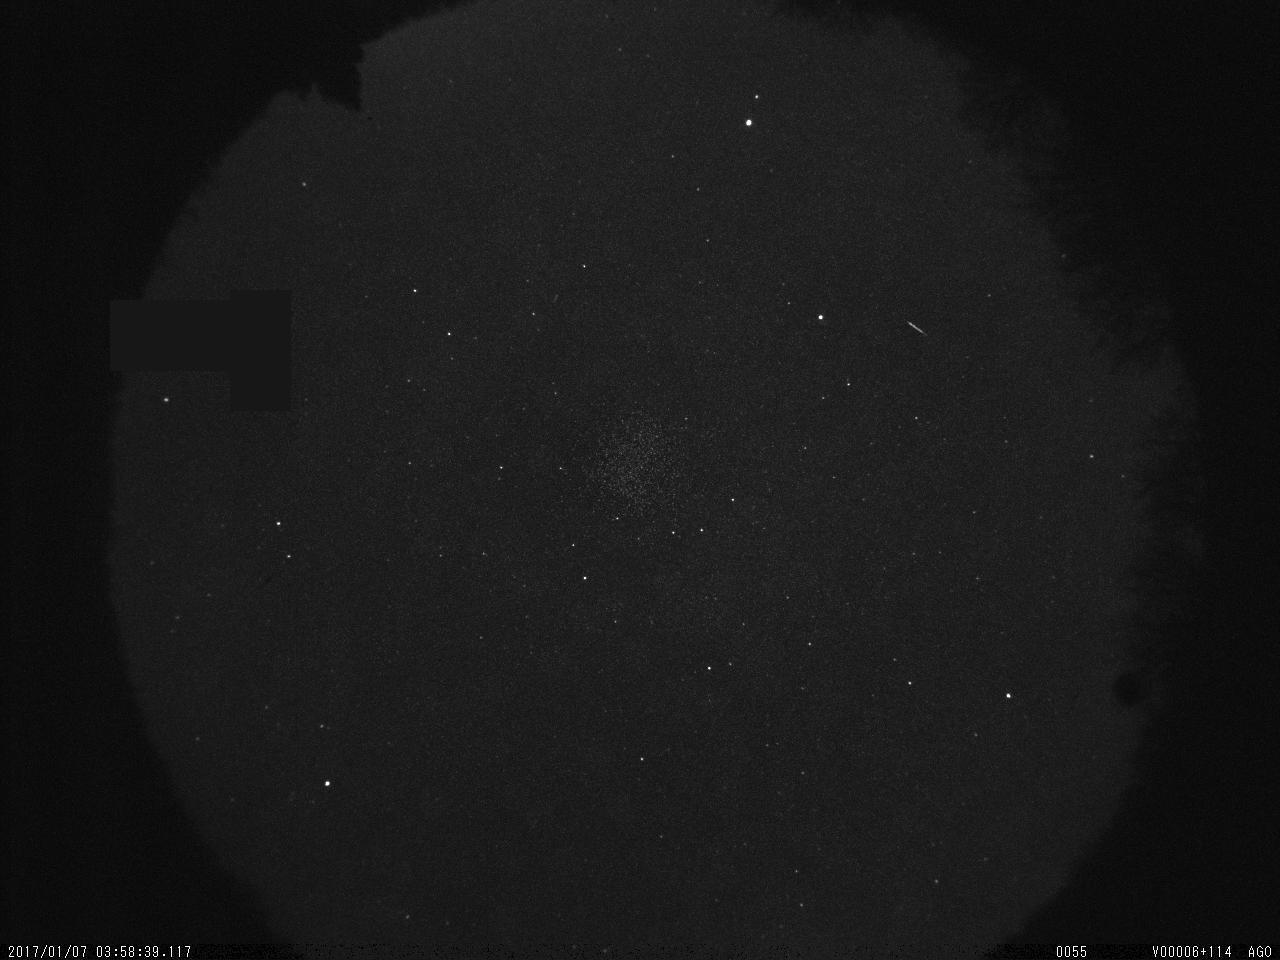meteor: (896, 308, 937, 349)
